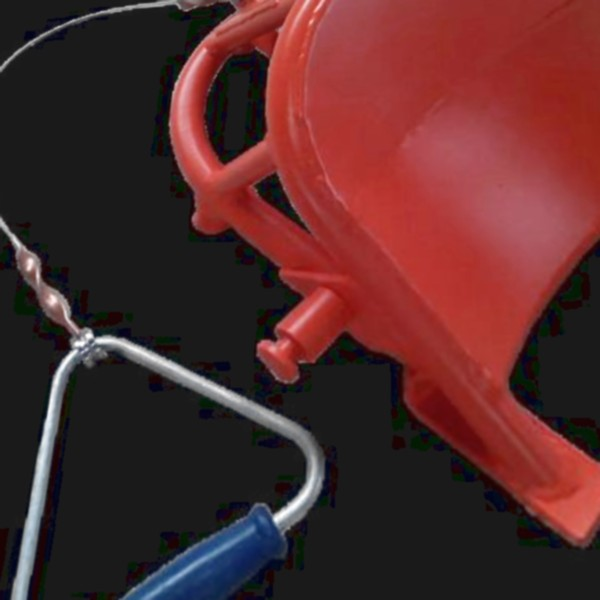chock: (95, 0, 600, 579)
